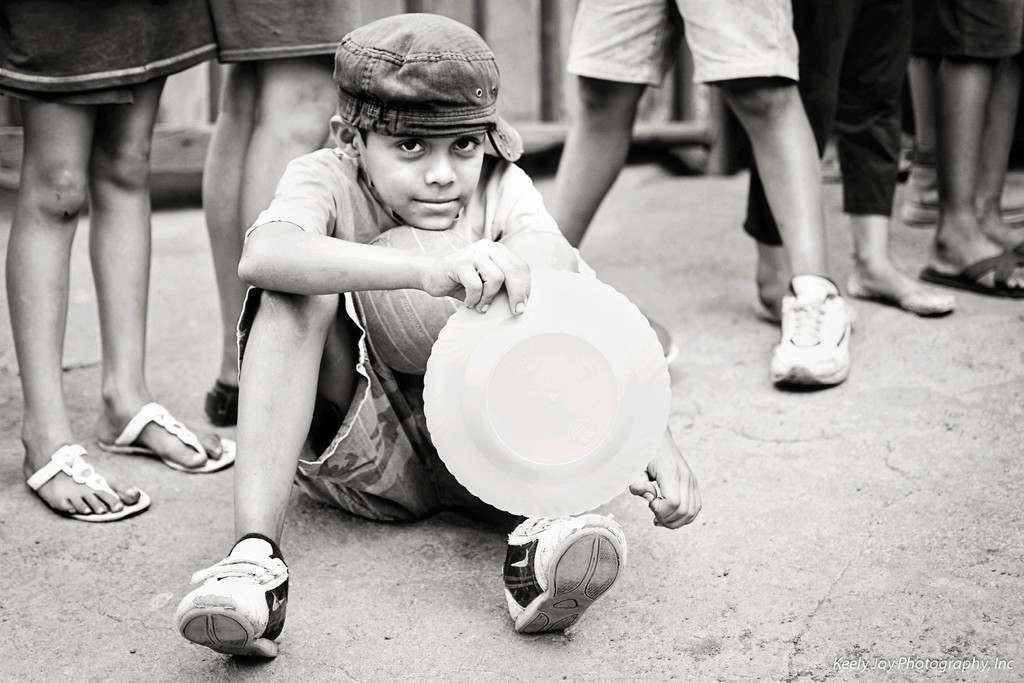Human_hand: (390, 222, 550, 322), (627, 427, 705, 531)
